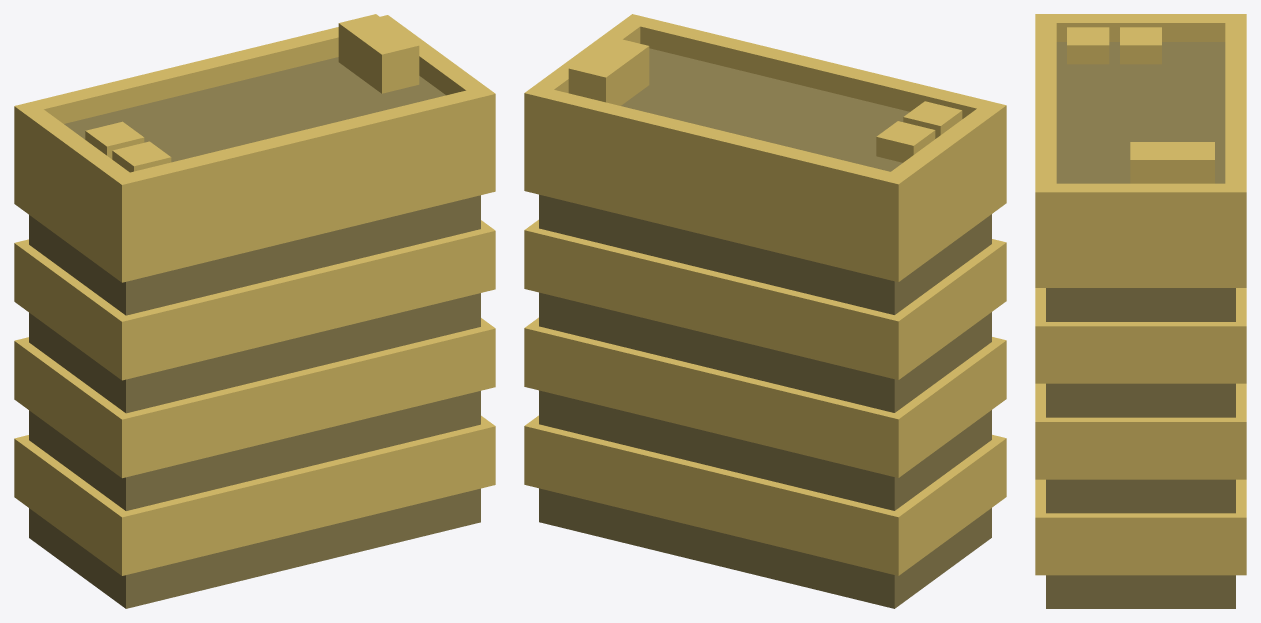
File: Low-Wide.glb
The picture shows the model from 3 angles, left to right: view 1: azimuth 30°, elevation 25°; view 2: azimuth 150°, elevation 25°; view 3: azimuth 270°, elevation 25°; orthographic projection. The views are drawn at different scales.
Visible parts, largest first — view 1: low_wideA; view 2: low_wideA; view 3: low_wideA.
Boxes of the visible parts, x1,y1,x2,y2 form: low_wideA: (14,14,495,608); low_wideA: (524,14,1006,608); low_wideA: (1035,14,1246,608).
Bounding box in the file's own units: 1 × 1.15 × 0.5.
